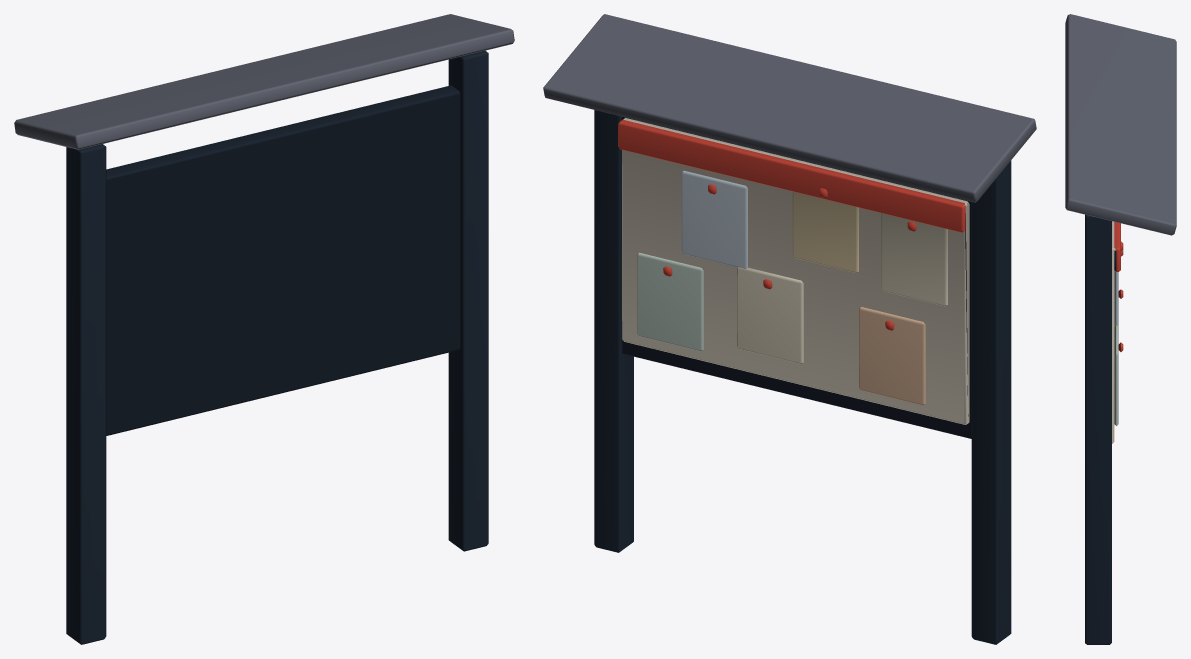
Rendered from station_board.glb.
The picture shows the model from 3 angles, left to right: view 1: azimuth 30°, elevation 25°; view 2: azimuth 150°, elevation 25°; view 3: azimuth 270°, elevation 25°; orthographic projection. The views are drawn at different scales.
Parts seen in each view (by area): view 1: Body; view 2: Body; view 3: Body.
Boxes of the visible parts, x1,y1,x2,y2 form: Body: (14, 14, 514, 644); Body: (543, 14, 1036, 644); Body: (1065, 14, 1176, 644).
Bounding box in the file's own units: 1.95 × 2.21 × 0.4933.
1 material, 1 textured.
